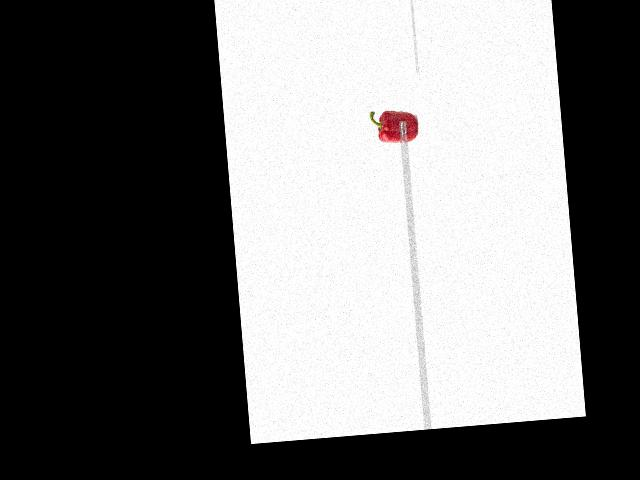bell_pepper: (366, 103, 418, 147)
